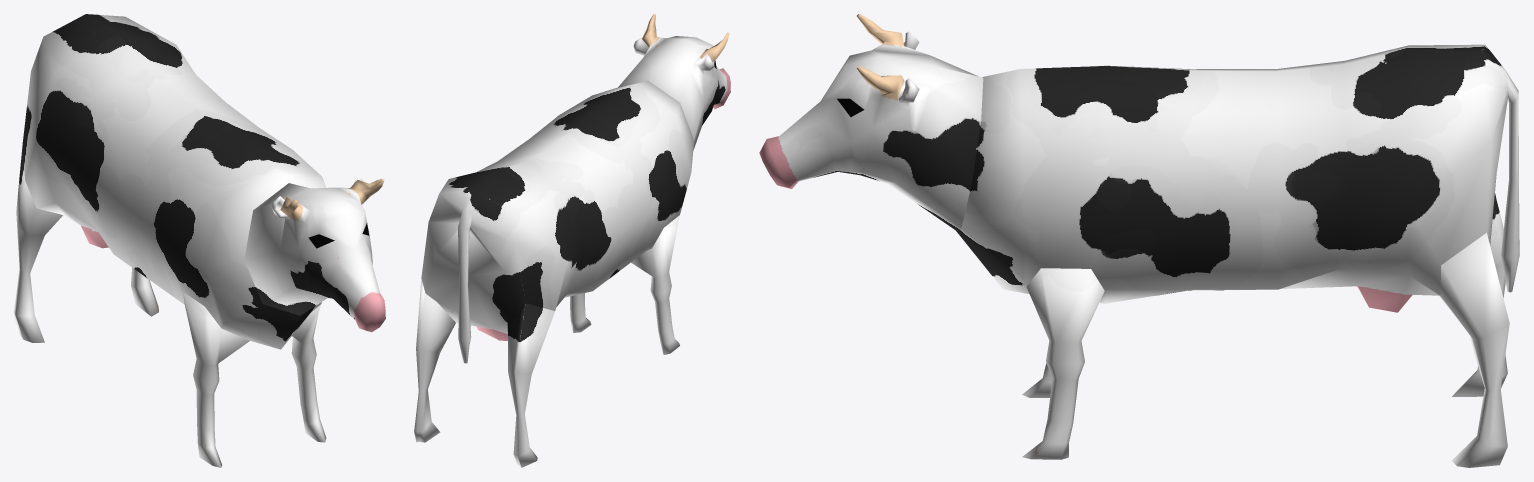
Rendered from Dead Cow.fbx.
3 renders of one model, left to right at view 1: azimuth 30°, elevation 25°; view 2: azimuth 150°, elevation 25°; view 3: azimuth 270°, elevation 25°, orthographic. The views are drawn at different scales.
Parts seen in each view (by area): view 1: Cylinder.002, Cylinder.000, Cylinder.005, Cylinder.004, Cylinder.001, Cylinder.003; view 2: Cylinder.002, Cylinder.000, Cylinder.004, Cylinder.003, Cylinder.005, Cylinder.001; view 3: Cylinder.002, Cylinder.000, Cylinder.003, Cylinder.001, Cylinder.004.
Part boxes in pixels (x1,y1,x2,y2): Cylinder.002: [22, 14, 325, 349]; Cylinder.000: [244, 177, 385, 332]; Cylinder.005: [183, 292, 249, 467]; Cylinder.004: [14, 145, 62, 342]; Cylinder.001: [291, 304, 326, 442]; Cylinder.003: [131, 267, 158, 316]; Cylinder.002: [421, 80, 693, 363]; Cylinder.000: [618, 14, 730, 150]; Cylinder.004: [507, 303, 555, 467]; Cylinder.003: [414, 278, 455, 442]; Cylinder.005: [631, 215, 679, 354]; Cylinder.001: [570, 293, 591, 332]; Cylinder.002: [956, 44, 1519, 312]; Cylinder.000: [759, 14, 983, 230]; Cylinder.003: [1439, 233, 1509, 467]; Cylinder.001: [1022, 268, 1104, 459]; Cylinder.004: [1452, 193, 1507, 396].
Bounding box in the file's own units: 4.3 × 8.19 × 14.51.
